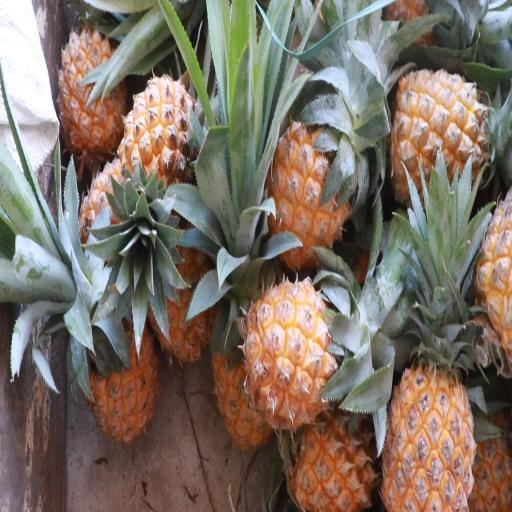Pineapple - v8 v1: (379, 281, 475, 512), (242, 268, 347, 438), (260, 108, 355, 276), (78, 263, 162, 450), (388, 62, 492, 213), (148, 194, 226, 370), (283, 388, 386, 512), (117, 71, 205, 208), (53, 22, 128, 164)
